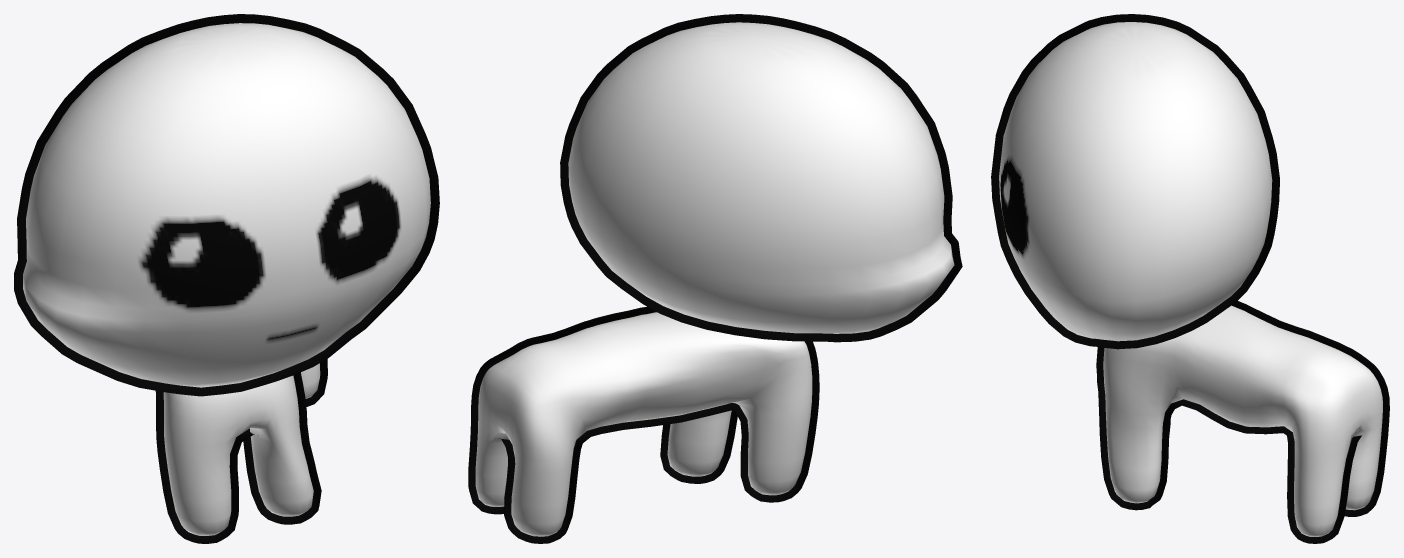
Rendered from tbh-character-autism-creature.glb.
3 renders of one model, left to right at view 1: azimuth 30°, elevation 25°; view 2: azimuth 150°, elevation 25°; view 3: azimuth 270°, elevation 25°, orthographic. The views are drawn at different scales.
Visible parts, largest first — view 1: 5, 37, 16, 45; view 2: 5, 37, 16, 45; view 3: 5, 37, 16, 45.
Part boxes in pixels (x1,y1,x2,y2): 5: [23, 23, 430, 387]; 37: [163, 363, 320, 535]; 16: [14, 14, 439, 396]; 45: [155, 359, 327, 543]; 5: [568, 22, 954, 333]; 37: [475, 312, 812, 536]; 16: [560, 14, 962, 342]; 45: [468, 306, 819, 543]; 5: [999, 22, 1272, 341]; 37: [1103, 305, 1382, 536]; 16: [991, 14, 1279, 349]; 45: [1096, 301, 1389, 543].
Bounding box in the file's own units: 4.17 × 4.91 × 4.04.
2 materials, 1 textured.
